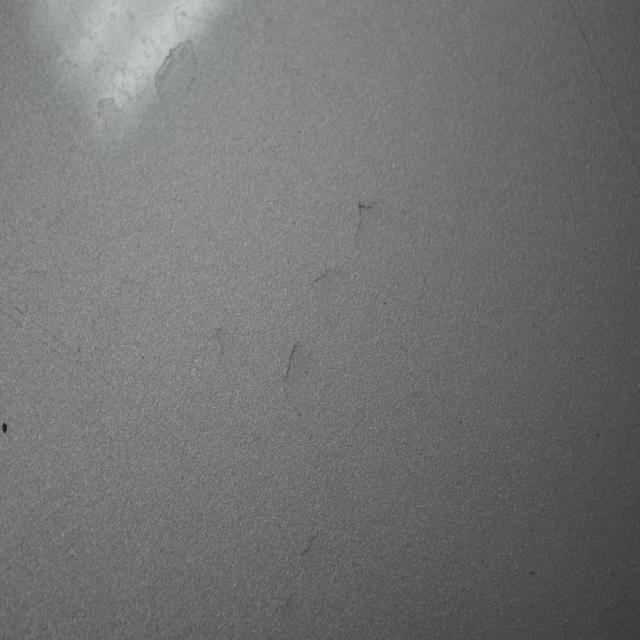dirt: (0, 414, 14, 442)
scratch: (562, 2, 640, 185)
water marks: (151, 30, 203, 110), (90, 83, 132, 150), (348, 190, 388, 248), (303, 252, 340, 304), (278, 340, 315, 388), (265, 589, 298, 640), (201, 319, 235, 358), (294, 517, 320, 558)
